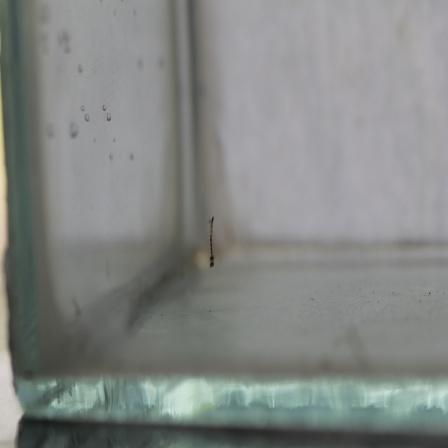Jentik-Nyamuk: (204, 214, 222, 273)
